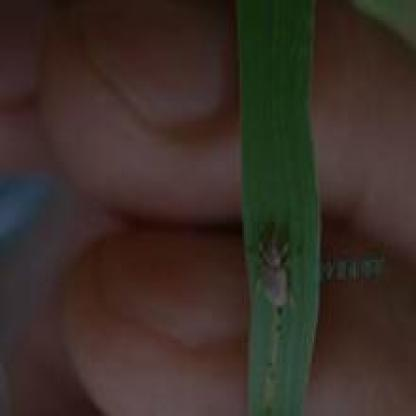rice-bug: (249, 223, 303, 311)
